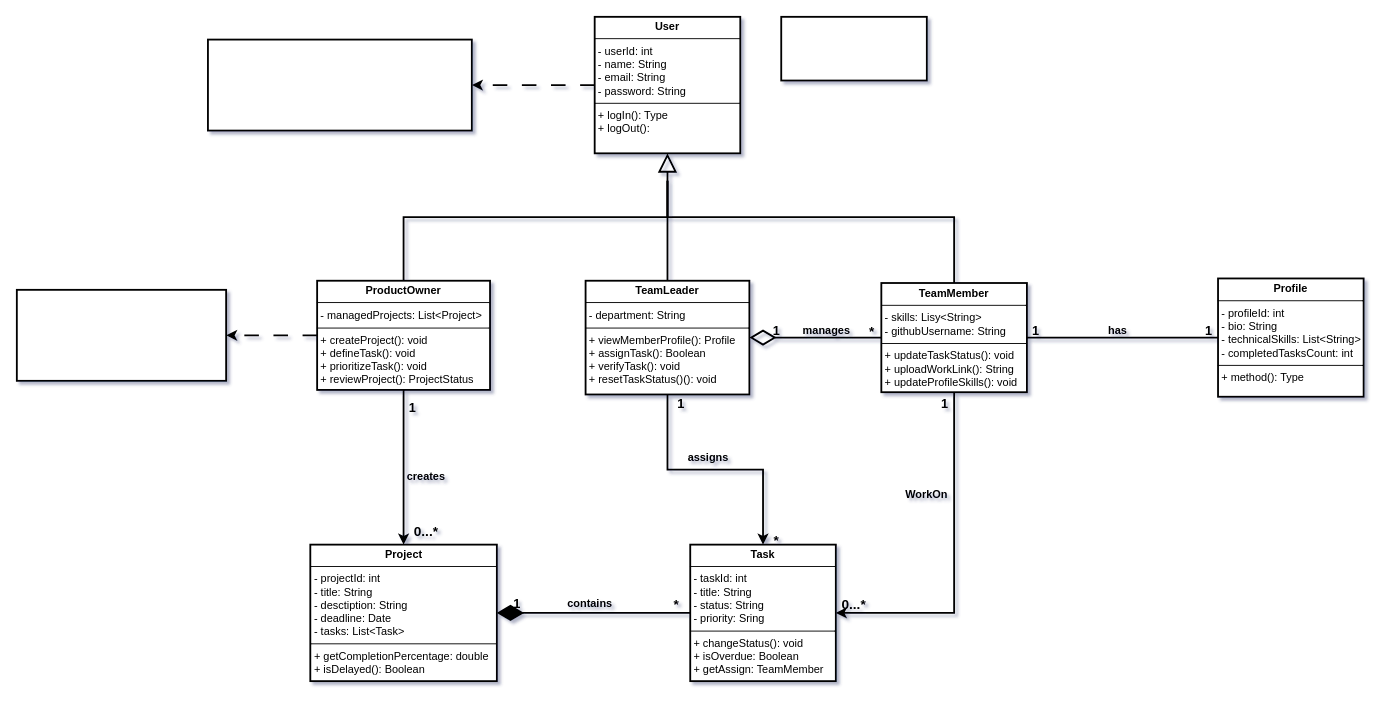
The diagram is 1385 pixels wide and 703 high, and some of its shapes have lost their labels. The shapes that lost their labels are listed below. From the top down, each one's box as (x1, y1, x2, y2) in pixels, then its label:
(780, 15, 927, 81): <<enumeration>> Role - role(Enum)
(207, 38, 472, 131): <<Interface>> IAuthService + authenticate(username, password): AuthResponse
(15, 288, 227, 381): <<Interface>> INotificationService + sendNotification(userId, message): void
